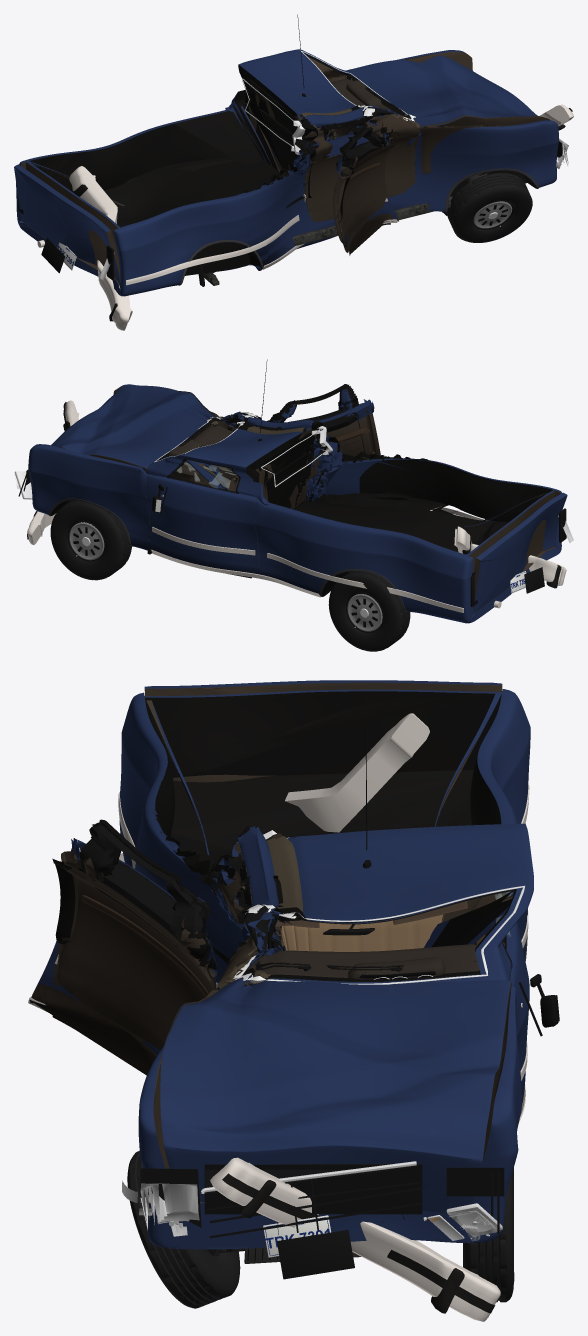
The model's file is pickup87_side_R_d3.glb.
3 renders of one model, top to bottom at view 1: azimuth 30°, elevation 25°; view 2: azimuth 150°, elevation 25°; view 3: azimuth 270°, elevation 25°, orthographic. The views are drawn at different scales.
Visible parts, largest first — view 1: Body, Hood, Tailgate, Door_FR, Wheel_FR_mesh, Bumper_R, Trim, Ends, Glass, Underbody, Interior, Glass_FR (+1 smaller); view 2: Body, Door_FL, Hood, Wheel_FL_mesh, Wheel_RL_mesh, Tailgate, Door_FR, Trim, Trim_FL, Ends, Interior, Bumper_R (+5 smaller); view 3: Body, Hood, Door_FR, Ends, Interior, Bumper_F, Bumper_R, Wheel_FR_mesh, Glass_FR, Tailgate, Glass, Wheel_FL_mesh (+4 smaller).
Part boxes in pixels (x1,y1,x2,y2): Body: (16, 49, 558, 296); Hood: (346, 55, 550, 128); Tailgate: (14, 164, 120, 284); Door_FR: (333, 127, 398, 254); Wheel_FR_mesh: (447, 173, 532, 242); Bumper_R: (69, 166, 132, 330); Trim: (126, 14, 539, 285); Ends: (17, 138, 568, 280); Glass: (242, 50, 415, 154); Underbody: (37, 196, 452, 286); Interior: (328, 79, 390, 136); Glass_FR: (336, 128, 381, 169); Body: (28, 384, 561, 623); Door_FL: (146, 458, 258, 573); Hood: (51, 385, 216, 472); Wheel_FL_mesh: (50, 500, 131, 580); Wheel_RL_mesh: (328, 571, 410, 651); Tailgate: (473, 492, 567, 613); Door_FR: (267, 384, 380, 459); Trim: (48, 359, 488, 612); Trim_FL: (151, 458, 257, 578); Ends: (14, 470, 573, 606); Interior: (168, 421, 238, 491); Bumper_R: (454, 526, 566, 588); Body: (119, 689, 533, 1249); Hood: (160, 977, 511, 1213); Door_FR: (29, 819, 217, 1075); Ends: (122, 1161, 504, 1279); Interior: (245, 901, 479, 979); Bumper_F: (210, 1157, 500, 1321); Bumper_R: (119, 713, 429, 862); Wheel_FR_mesh: (127, 1151, 240, 1308); Glass_FR: (80, 824, 212, 947); Tailgate: (144, 680, 502, 695); Glass: (233, 830, 524, 984); Wheel_FL_mesh: (463, 1167, 514, 1302).
Bounding box in the file's own units: 5.26 × 2.35 × 2.44.
33 materials, 5 textured.
